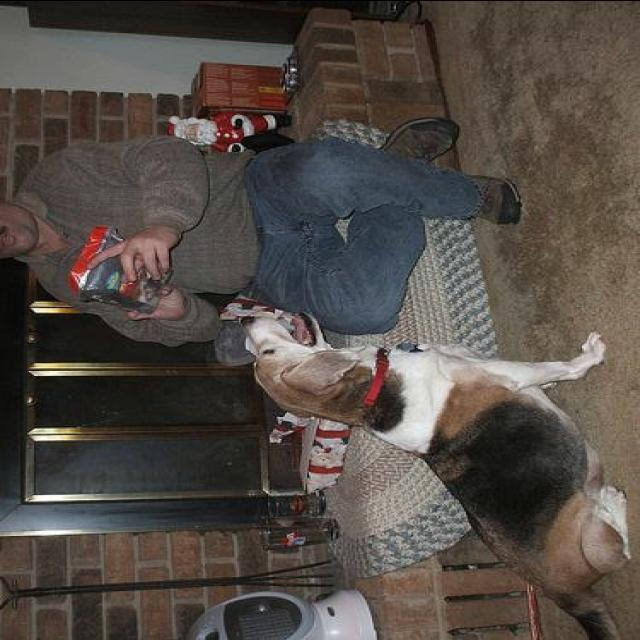beagle: (239, 307, 628, 639)
